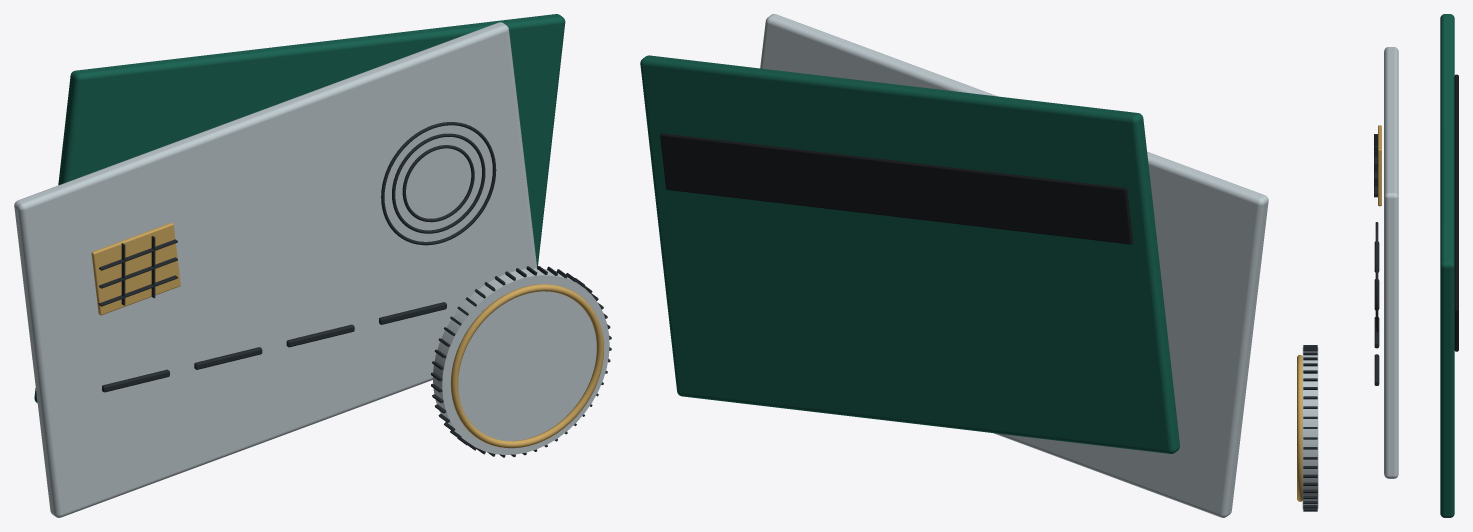
File: creditCard.glb
3 renders of one model, left to right at view 1: azimuth 30°, elevation 25°; view 2: azimuth 150°, elevation 25°; view 3: azimuth 270°, elevation 25°, orthographic. The views are drawn at different scales.
Visible parts, largest first — view 1: InterestShield-creditCard-authored-v1; view 2: InterestShield-creditCard-authored-v1; view 3: InterestShield-creditCard-authored-v1.
Part boxes in pixels (x1,y1,x2,y2): InterestShield-creditCard-authored-v1: (14,14,611,517); InterestShield-creditCard-authored-v1: (640,14,1268,517); InterestShield-creditCard-authored-v1: (1297,14,1458,517).
Size of the model in its own units: 3.19 by 2.15 by 0.9212.
